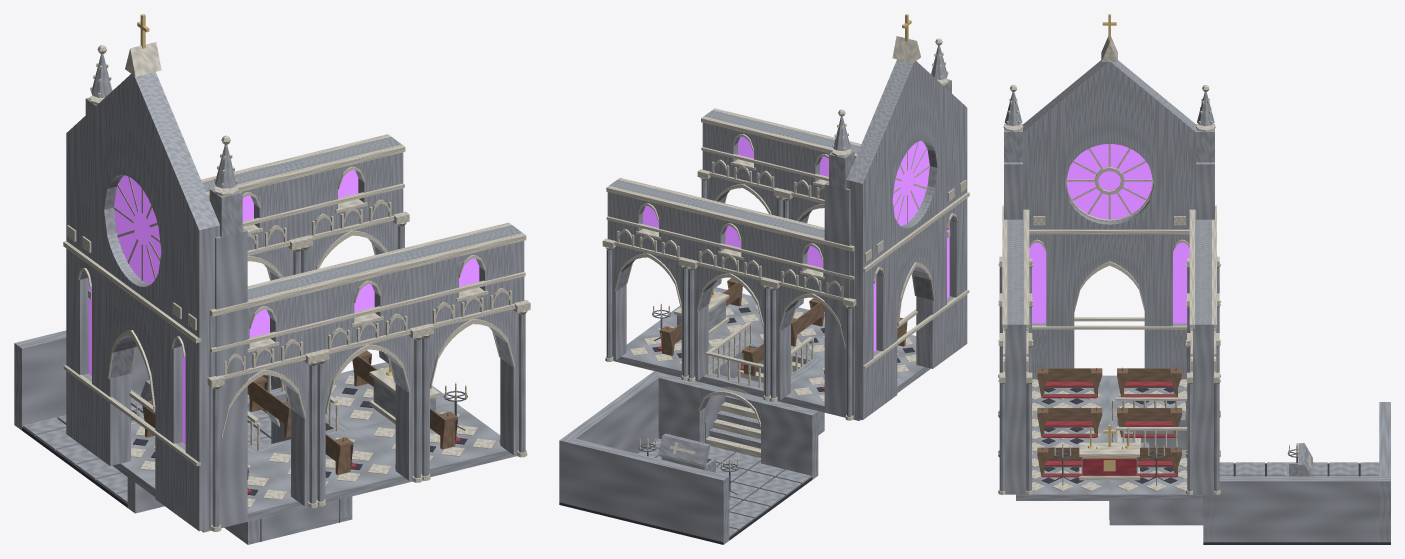
The picture shows the model from 3 angles, left to right: view 1: azimuth 30°, elevation 25°; view 2: azimuth 150°, elevation 25°; view 3: azimuth 270°, elevation 25°; orthographic projection. The views are drawn at different scales.
Visible parts, largest first — view 1: 017-rose-window-wall/0, 007-nave-bay/0, 013-nave-bay/0, 023-tomb-chamber-cutaway/1, 002-nave-bay/0, 014-nave-bay/0, 017-rose-window-wall/1, 013-nave-bay/2, 007-nave-bay/2, 008-nave-bay/0, 014-nave-bay/2, 002-nave-bay/2 (+17 smaller); view 2: 017-rose-window-wall/0, 023-tomb-chamber-cutaway/1, 014-nave-bay/0, 008-nave-bay/0, 003-nave-bay/0, 013-nave-bay/0, 017-rose-window-wall/1, 021-crypt-stair/0, 014-nave-bay/2, 008-nave-bay/2, 007-nave-bay/0, 013-nave-bay/2 (+16 smaller); view 3: 017-rose-window-wall/0, 023-tomb-chamber-cutaway/1, 017-rose-window-wall/2, 013-nave-bay/0, 014-nave-bay/0, 017-rose-window-wall/1, 021-crypt-stair/0, 011-nave-floor-tile/0, 012-nave-floor-tile/0, 010-pew/0, 018-altar/0, 005-pew/0 (+25 smaller).
Boxes of the visible parts, <box> form: 017-rose-window-wall/0: <box>66,54,247,531</box>; 007-nave-bay/0: <box>303,250,420,501</box>; 013-nave-bay/0: <box>407,225,525,476</box>; 023-tomb-chamber-cutaway/1: <box>14,330,280,513</box>; 002-nave-bay/0: <box>209,276,316,529</box>; 014-nave-bay/0: <box>287,136,404,363</box>; 017-rose-window-wall/1: <box>63,42,238,466</box>; 013-nave-bay/2: <box>404,222,530,480</box>; 007-nave-bay/2: <box>300,248,425,506</box>; 008-nave-bay/0: <box>202,162,300,389</box>; 014-nave-bay/2: <box>284,134,409,353</box>; 002-nave-bay/2: <box>207,273,321,531</box>; 017-rose-window-wall/0: <box>824,45,967,419</box>; 023-tomb-chamber-cutaway/1: <box>559,371,818,544</box>; 014-nave-bay/0: <box>606,179,698,376</box>; 008-nave-bay/0: <box>688,199,780,396</box>; 003-nave-bay/0: <box>771,219,854,418</box>; 013-nave-bay/0: <box>701,110,793,288</box>; 017-rose-window-wall/1: <box>832,36,969,368</box>; 021-crypt-stair/0: <box>695,340,824,448</box>; 014-nave-bay/2: <box>602,177,701,380</box>; 008-nave-bay/2: <box>685,198,783,400</box>; 007-nave-bay/0: <box>783,130,860,308</box>; 013-nave-bay/2: <box>697,108,796,281</box>; 017-rose-window-wall/0: <box>1004,60,1214,379</box>; 023-tomb-chamber-cutaway/1: <box>1203,402,1390,542</box>; 017-rose-window-wall/2: <box>1029,144,1189,323</box>; 013-nave-bay/0: <box>999,285,1031,494</box>; 014-nave-bay/0: <box>1187,285,1219,494</box>; 017-rose-window-wall/1: <box>1003,36,1215,329</box>; 021-crypt-stair/0: <box>1109,415,1203,525</box>; 011-nave-floor-tile/0: <box>1109,455,1203,500</box>; 012-nave-floor-tile/0: <box>1016,455,1109,500</box>; 010-pew/0: <box>1037,407,1102,437</box>; 018-altar/0: <box>1079,427,1139,480</box>; 005-pew/0: <box>1037,367,1102,397</box>.
Size of the model in its own units: 12.62 by 20.3 by 16.76.
Materials: 8 (4 with a texture image).
